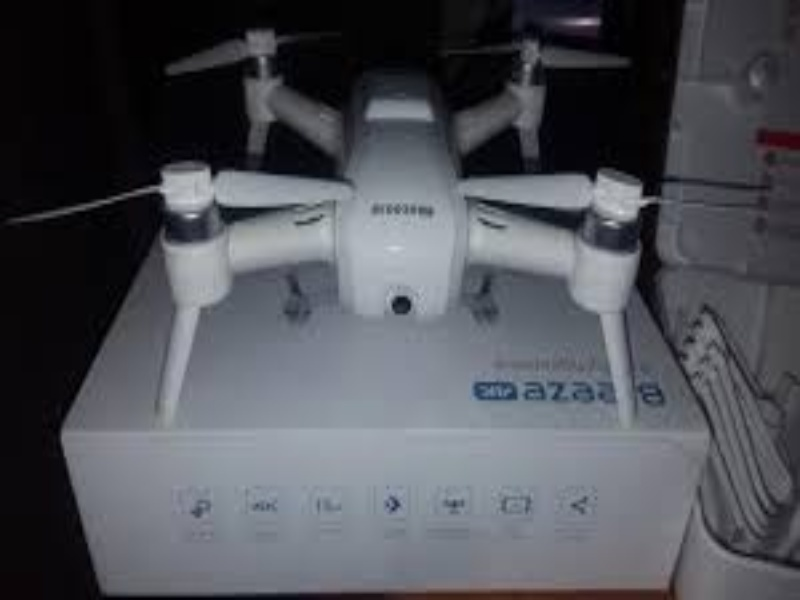drone: (104, 22, 704, 429)
